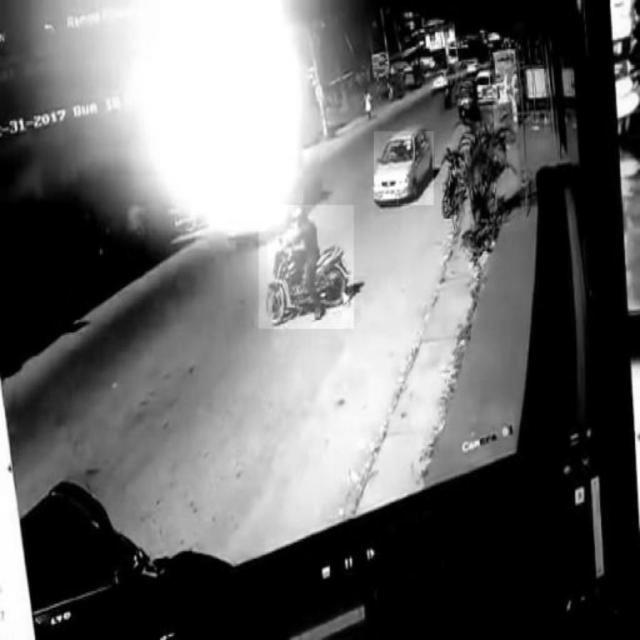vehicle: (259, 205, 353, 329), (375, 132, 435, 205)
